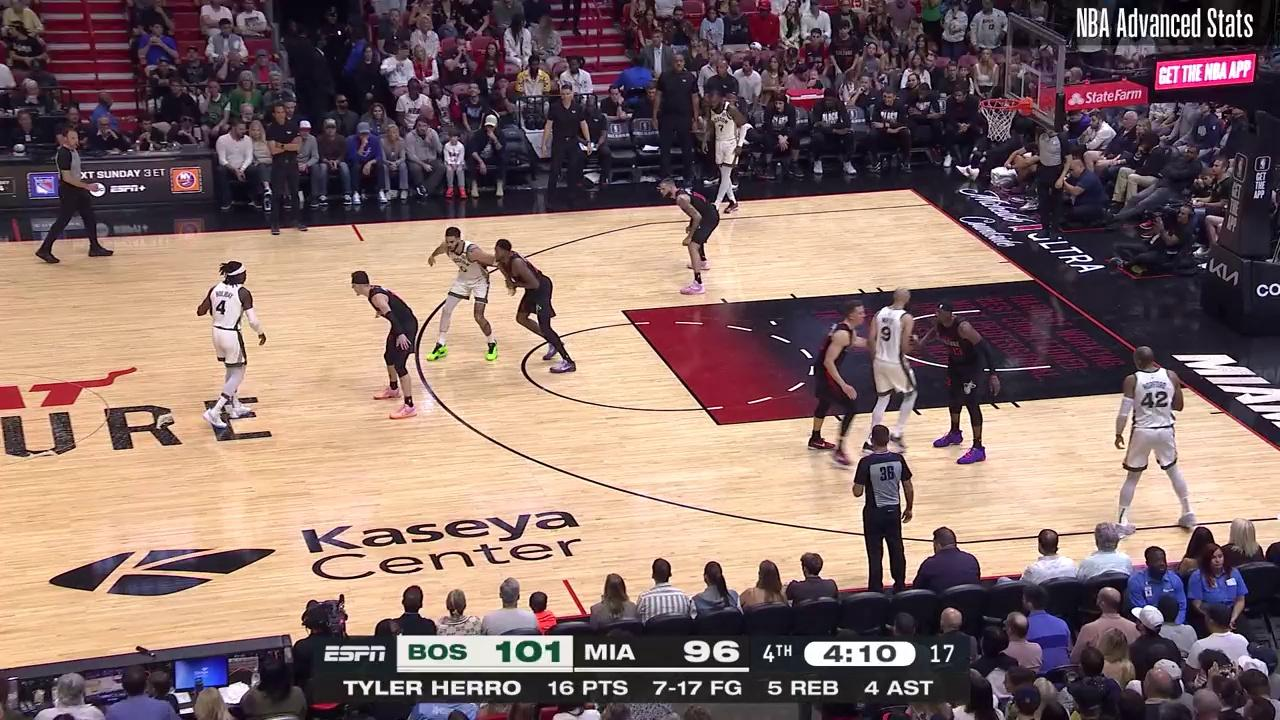3_sx: (926, 199, 936, 209)
b_sx: (906, 184, 918, 195)
free_adx: (713, 418, 726, 431)
free_asx: (616, 304, 631, 318)
free_bdx: (1182, 381, 1196, 393)
free_bsx: (1029, 273, 1041, 285)
mid_dx: (355, 235, 368, 245)
mid_sx: (560, 575, 571, 586)
referee: (851, 425, 917, 588), (37, 131, 113, 267), (1034, 115, 1074, 242)
team: (1101, 342, 1204, 531), (198, 260, 269, 432), (428, 227, 504, 367), (867, 284, 919, 453), (703, 94, 745, 215)
team1: (921, 304, 1000, 463), (493, 239, 579, 376), (351, 268, 421, 421), (806, 301, 867, 466), (656, 177, 719, 296)
timer: (819, 641, 899, 669)
